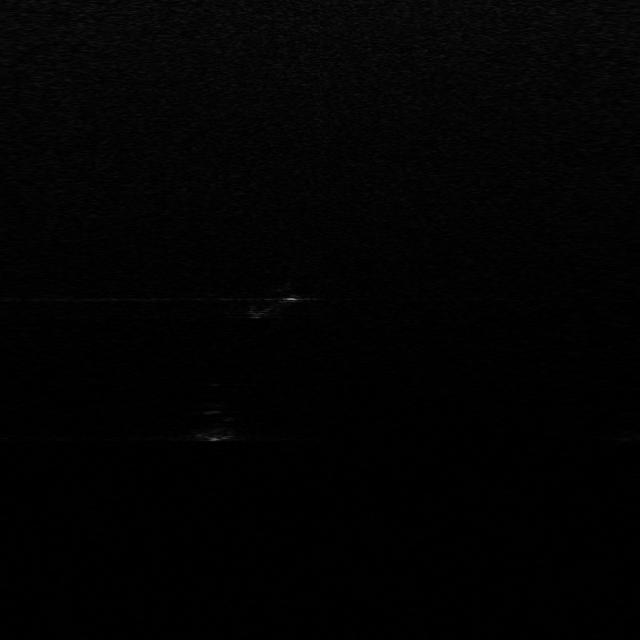ball: (183, 406, 241, 442)
tyre: (250, 286, 300, 318)
